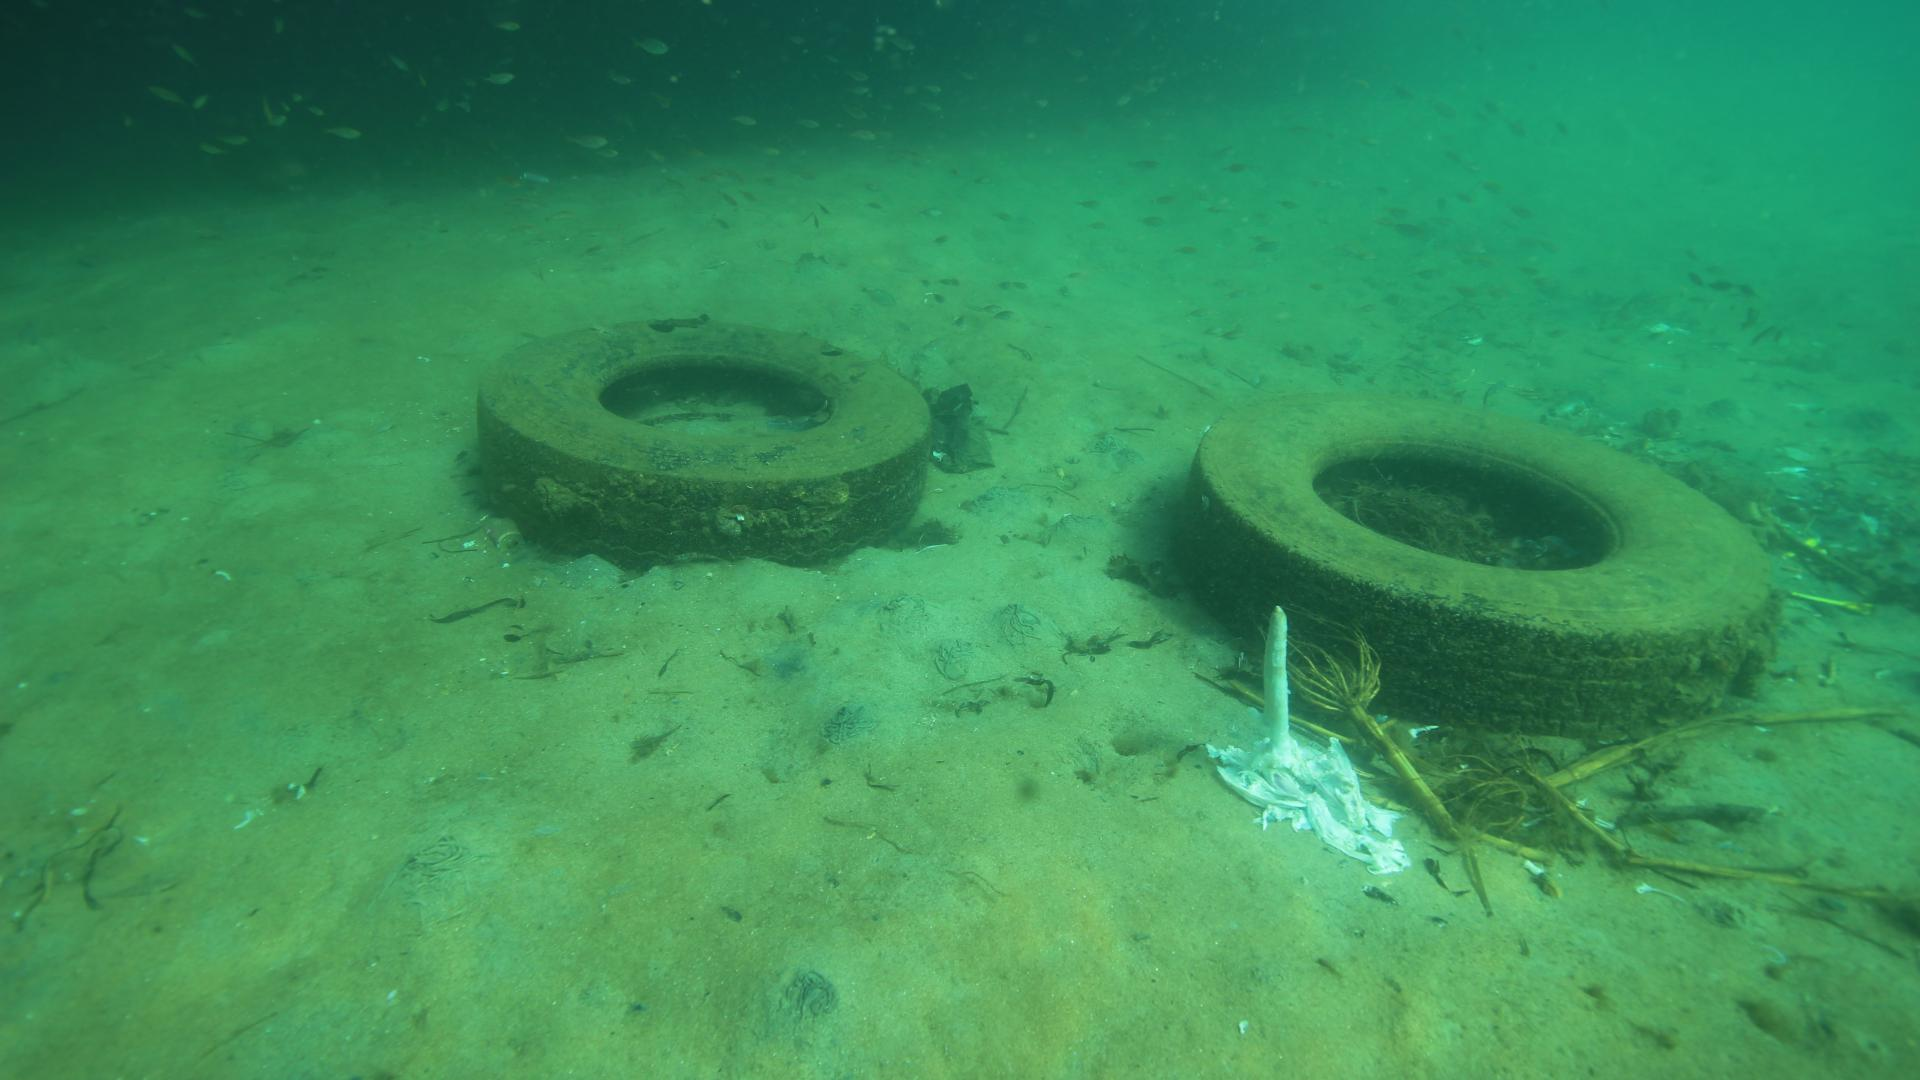tire: (1187, 389, 1787, 745), (468, 314, 926, 563)
